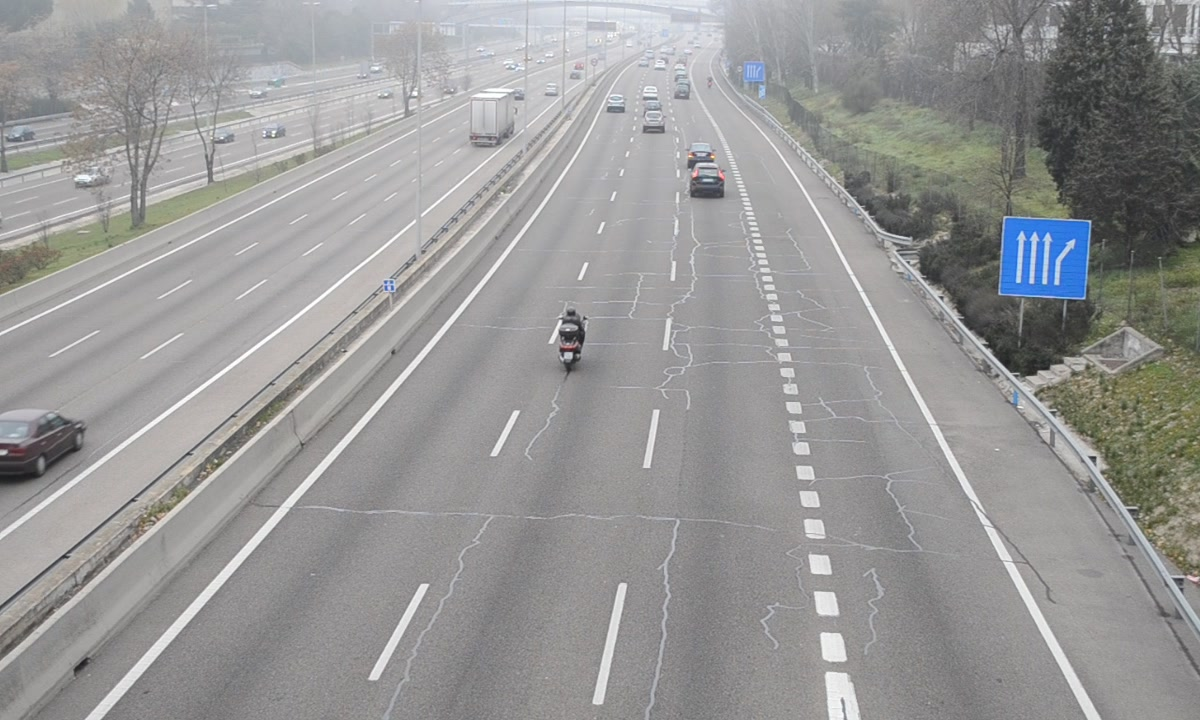car: (689, 163, 725, 198), (686, 142, 715, 166)
motorcycle: (554, 305, 587, 373)
